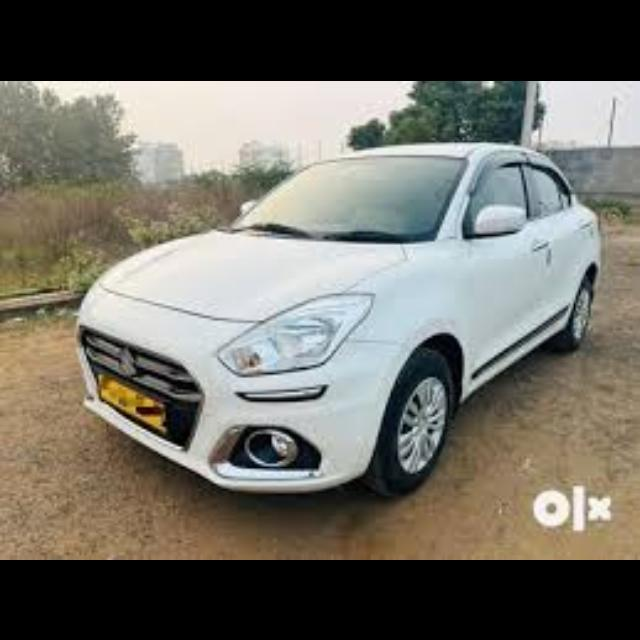number-plate: (97, 372, 166, 431)
vehicles: (48, 142, 611, 510)
